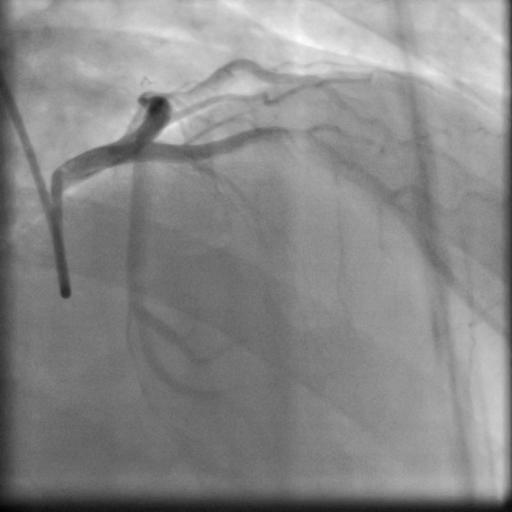Stenosis: (165, 78, 208, 100)
